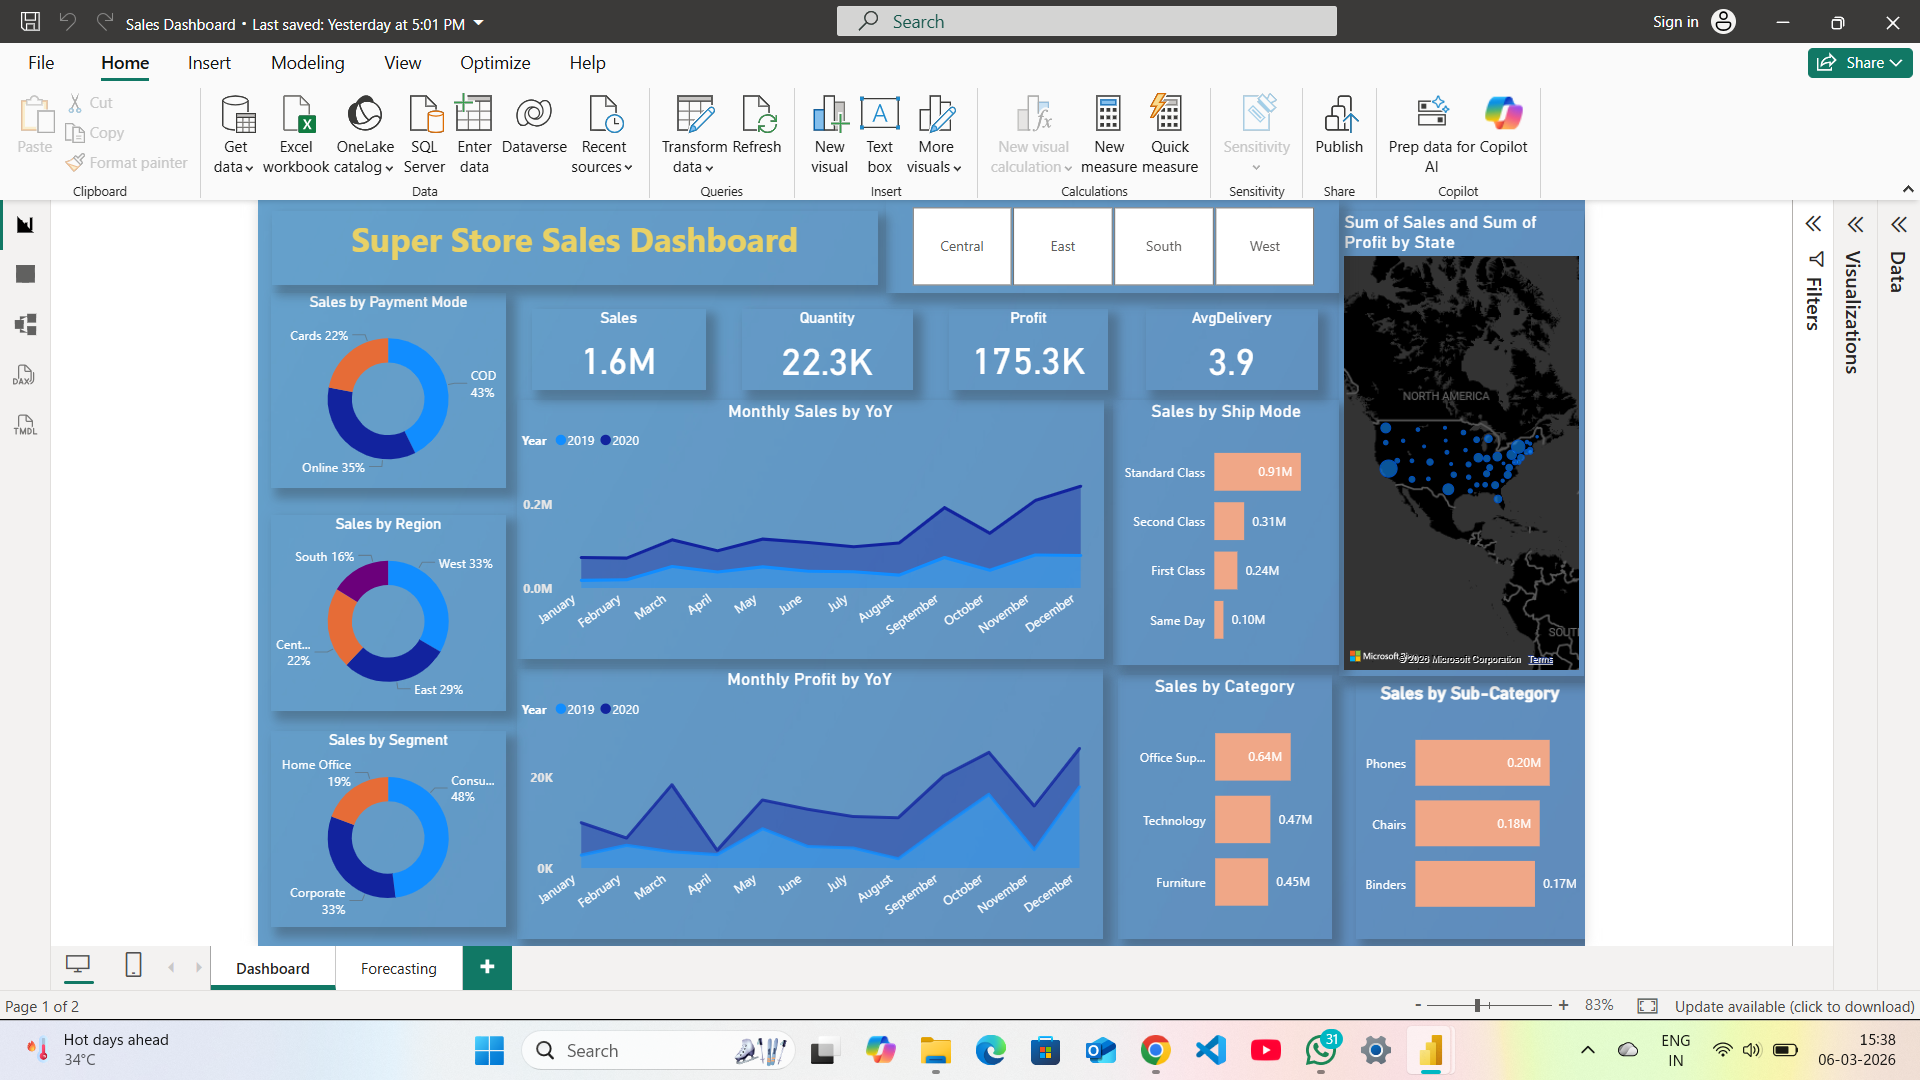

The page's visual inventory and layout, read from the dashboard file:
{"tool":"powerbi","page":{"name":"Dashboard","canvas":[1280,720],"ordinal":0},"visuals":[{"type":"clusteredBarChart","title":" Sales by Category","fields":{"Category":["SuperStore_Sales_Dataset.Category"],"Y":["Sum(SuperStore_Sales_Dataset.Sales)"]},"box":[830,458.4,206.3,254.6],"z":0},{"type":"clusteredBarChart","title":" Sales by Sub-Category","fields":{"Category":["SuperStore_Sales_Dataset.Sub-Category"],"Y":["Sum(SuperStore_Sales_Dataset.Sales)"]},"box":[1058.8,466.2,221.2,247.5],"z":1000},{"type":"clusteredBarChart","title":" Sales by Ship Mode","fields":{"Category":["SuperStore_Sales_Dataset.Ship Mode"],"Y":["Sum(SuperStore_Sales_Dataset.Sales)"]},"box":[825,192.5,218.8,256.2],"z":2000},{"type":"stackedAreaChart","title":"Monthly Sales by YoY","fields":{"Y":["Sum(SuperStore_Sales_Dataset.Sales)"],"Series":["SuperStore_Sales_Dataset.Order Date.Variation.Date Hierarchy.Year"],"Category":["SuperStore_Sales_Dataset.Order Date.Variation.Date Hierarchy.Month","SuperStore_Sales_Dataset.Order Date.Variation.Date Hierarchy.Day"]},"box":[249.7,193,567,249.7],"z":3000},{"type":"stackedAreaChart","title":"Monthly Profit by YoY","fields":{"Series":["SuperStore_Sales_Dataset.Order Date.Variation.Date Hierarchy.Year"],"Category":["SuperStore_Sales_Dataset.Order Date.Variation.Date Hierarchy.Month","SuperStore_Sales_Dataset.Order Date.Variation.Date Hierarchy.Day"],"Y":["Sum(SuperStore_Sales_Dataset.Profit)"]},"box":[249.7,452.4,565.8,260.6],"z":4000},{"type":"map","fields":{"Category":["SuperStore_Sales_Dataset.State"],"Size":["Sum(SuperStore_Sales_Dataset.Sales)"]},"box":[1043.8,11.2,236.2,448.8],"z":5000},{"type":"donutChart","title":" Sales by Segment","fields":{"Category":["SuperStore_Sales_Dataset.Segment"],"Y":["Sum(SuperStore_Sales_Dataset.Sales)"]},"box":[12.5,512.5,227.5,188.8],"z":6000},{"type":"slicer","title":"Region","fields":{"Values":["SuperStore_Sales_Dataset.Region"]},"box":[605.6,0,437.9,89.3],"z":7000},{"type":"card","title":"Sales","fields":{"Values":["Sum(SuperStore_Sales_Dataset.Sales)"]},"box":[264.2,105,167.7,78.4],"z":8000},{"type":"card","title":"Profit","fields":{"Values":["Sum(SuperStore_Sales_Dataset.Profit)"]},"box":[667.7,105,153.2,78.4],"z":9000},{"type":"card","title":"Quantity","fields":{"Values":["Sum(SuperStore_Sales_Dataset.Quantity)"]},"box":[467.3,105,165,78.8],"z":10000},{"type":"card","title":"AvgDelivery","fields":{"Values":["Avg(SuperStore_Sales_Dataset.AvgDelivery)"]},"box":[856.3,105,166.2,78.8],"z":11000},{"type":"donutChart","title":" Sales by Payment Mode","fields":{"Category":["SuperStore_Sales_Dataset.Payment Mode"],"Y":["Sum(SuperStore_Sales_Dataset.Sales)"]},"box":[12.5,88.8,227.5,188.8],"z":12000},{"type":"donutChart","title":" Sales by Region","fields":{"Category":["SuperStore_Sales_Dataset.Region"],"Y":["Sum(SuperStore_Sales_Dataset.Sales)"]},"box":[12.5,303.8,227.5,188.8],"z":13000},{"type":"textbox","box":[13.3,10.9,585.1,71.2],"z":14000}]}

Visuals, with their boxes on the page's 1280x720 design canvas (x1, y1, x2, y2). These are canvas units, not pixel positions in the 1920x1080 screenshot, which may show the page scaled, cropped or inside an application window:
" Sales by Category" clusteredBarChart: {"left": 830, "top": 458, "right": 1036, "bottom": 713}
" Sales by Sub-Category" clusteredBarChart: {"left": 1059, "top": 466, "right": 1280, "bottom": 714}
" Sales by Ship Mode" clusteredBarChart: {"left": 825, "top": 192, "right": 1044, "bottom": 449}
"Monthly Sales by YoY" stackedAreaChart: {"left": 250, "top": 193, "right": 817, "bottom": 443}
"Monthly Profit by YoY" stackedAreaChart: {"left": 250, "top": 452, "right": 816, "bottom": 713}
map - SuperStore_Sales_Dataset.State x Sum(SuperStore_Sales_Dataset.Sales): {"left": 1044, "top": 11, "right": 1280, "bottom": 460}
" Sales by Segment" donutChart: {"left": 12, "top": 512, "right": 240, "bottom": 701}
"Region" slicer: {"left": 606, "top": 0, "right": 1044, "bottom": 89}
"Sales" card: {"left": 264, "top": 105, "right": 432, "bottom": 183}
"Profit" card: {"left": 668, "top": 105, "right": 821, "bottom": 183}
"Quantity" card: {"left": 467, "top": 105, "right": 632, "bottom": 184}
"AvgDelivery" card: {"left": 856, "top": 105, "right": 1022, "bottom": 184}
" Sales by Payment Mode" donutChart: {"left": 12, "top": 89, "right": 240, "bottom": 278}
" Sales by Region" donutChart: {"left": 12, "top": 304, "right": 240, "bottom": 493}
textbox: {"left": 13, "top": 11, "right": 598, "bottom": 82}
